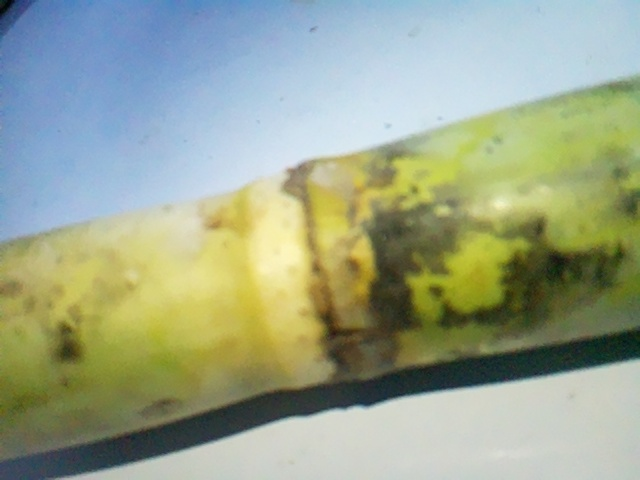Good Sugarcane: (0, 71, 635, 465)
Node: (230, 145, 362, 399)
